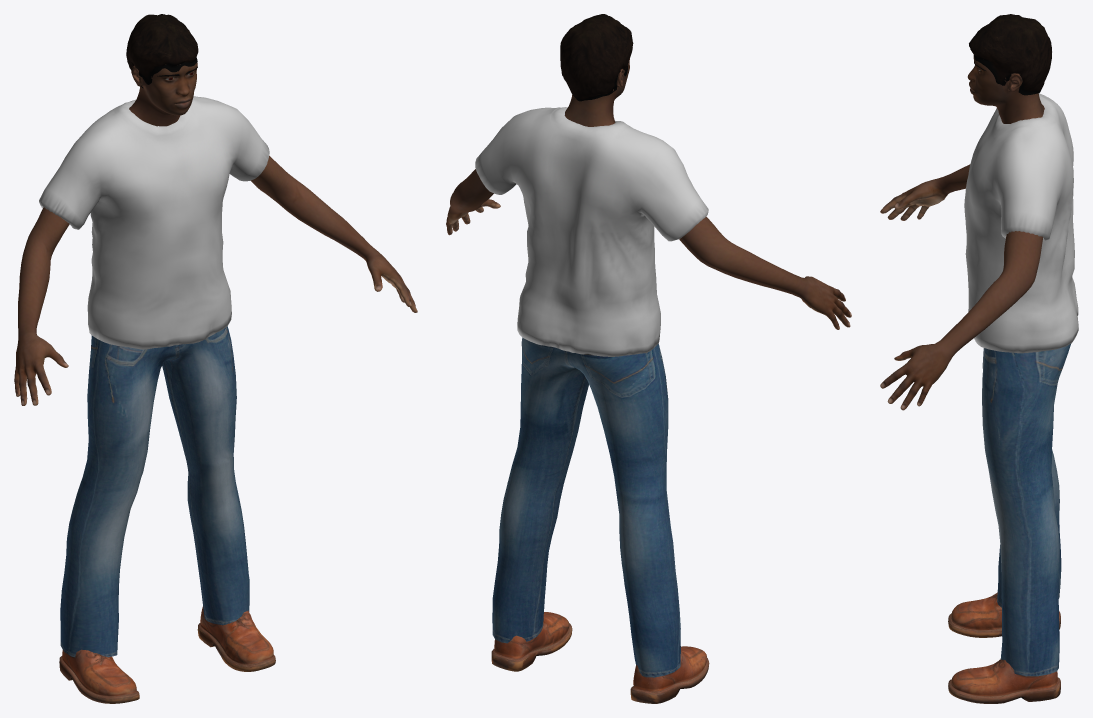
File: bila.glb
The picture shows the model from 3 angles, left to right: view 1: azimuth 30°, elevation 25°; view 2: azimuth 150°, elevation 25°; view 3: azimuth 270°, elevation 25°; orthographic projection.
Parts seen in each view (by area): view 1: Human; view 2: Human; view 3: Human.
Boxes of the visible parts, x1=… form: Human: x1=14, y1=14, x2=417, y2=703; Human: x1=446, y1=14, x2=851, y2=703; Human: x1=880, y1=14, x2=1078, y2=703.
Size of the model in its own units: 1.31 by 2.06 by 0.5747.
1 material, 1 textured.
